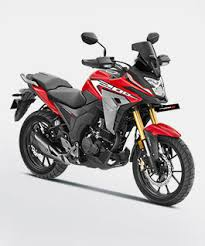MotorCycle: (23, 39, 196, 202)
